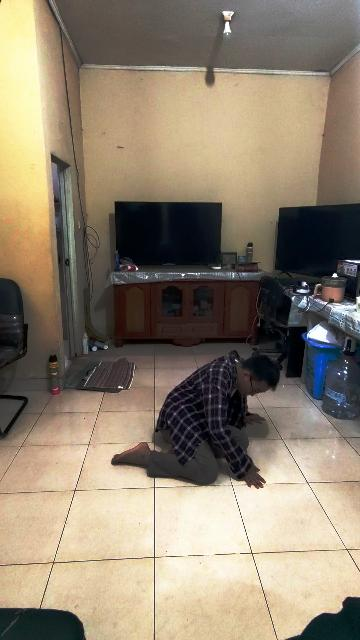jatuh: (114, 350, 281, 492)
